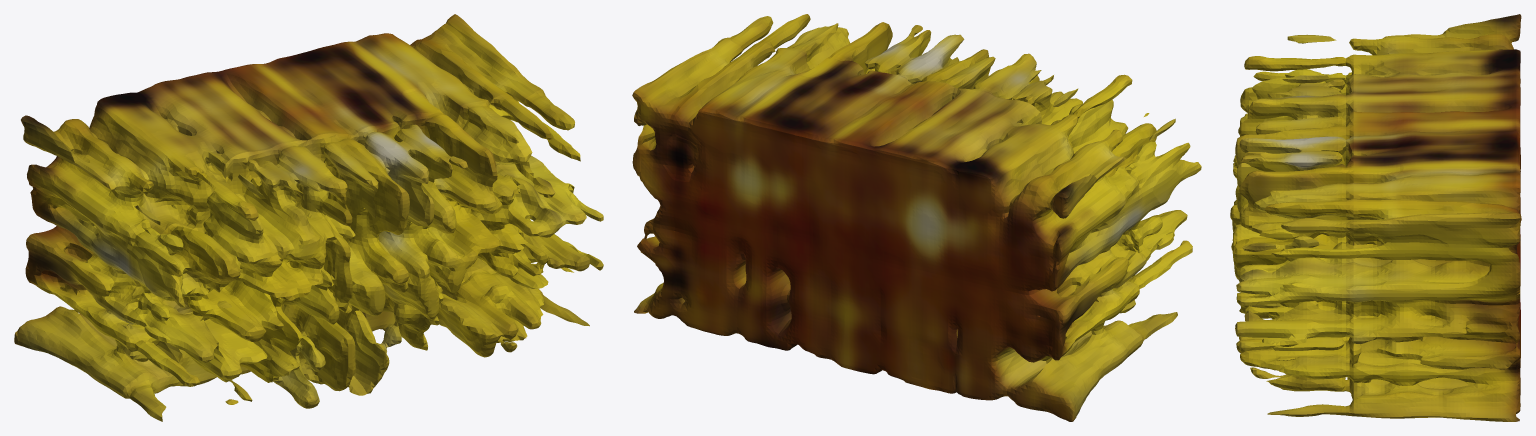
Rendered from a_yellow_sofa.0.glb.
The picture shows the model from 3 angles, left to right: view 1: azimuth 30°, elevation 25°; view 2: azimuth 150°, elevation 25°; view 3: azimuth 270°, elevation 25°; orthographic projection. The views are drawn at different scales.
Parts seen in each view (by area): view 1: a_yellow_sofa.0.obj; view 2: a_yellow_sofa.0.obj; view 3: a_yellow_sofa.0.obj.
Part boxes in pixels (x1,y1,x2,y2): a_yellow_sofa.0.obj: (14,14,603,421); a_yellow_sofa.0.obj: (632,14,1201,421); a_yellow_sofa.0.obj: (1230,14,1521,421).
Size of the model in its own units: 1.92 by 0.9607 by 1.17.
